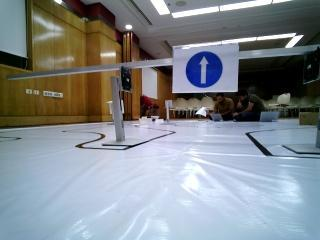straight: (172, 45, 239, 93)
